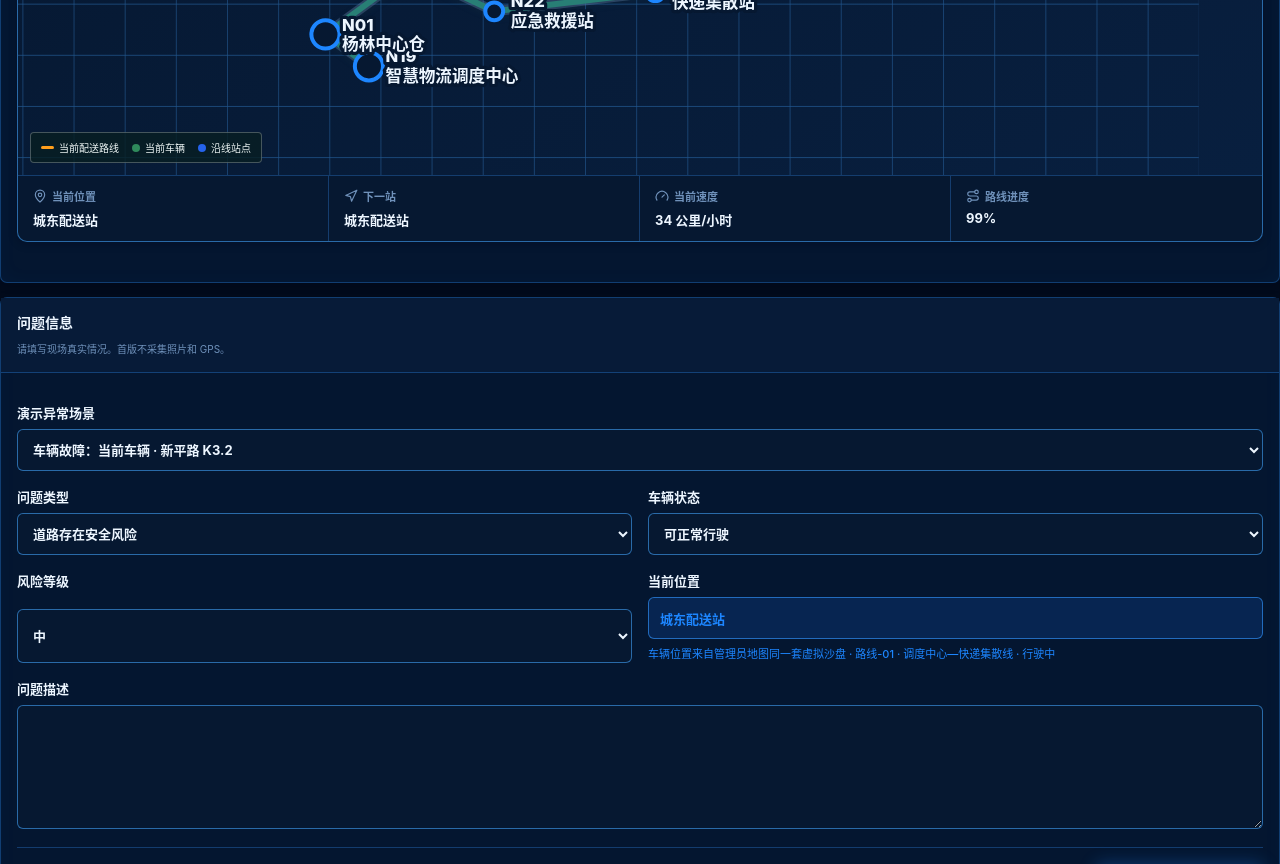
report issue page › shows read-only rescue and repair progress for the accepted breakdown task
The width and height of the screenshot is (1280, 864).
(page scrolled)
Select "车辆故障：当前车辆 · 新平路 K3.2" in the dropdown labelled "演示异常场景" at [640, 450], box [17, 429, 1263, 471]
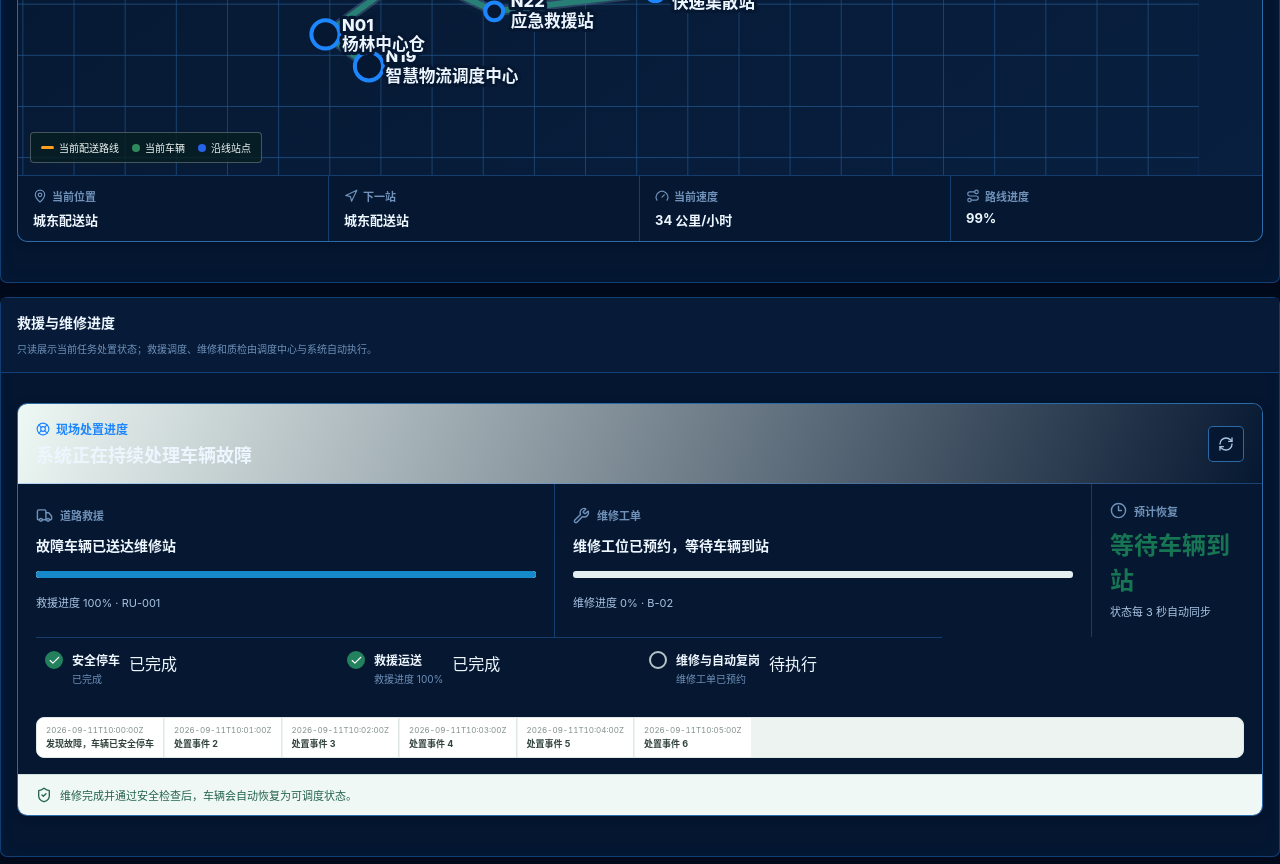
expect the element that starts with "现场处置进度" is shown: met, box [17, 403, 1263, 816]
expect the element that starts with "安全停车" is shown: met, box [18, 637, 1262, 758]
expect the element that starts with "安全停车" shows "维修与自动复岗": met, box [676, 653, 760, 668]
